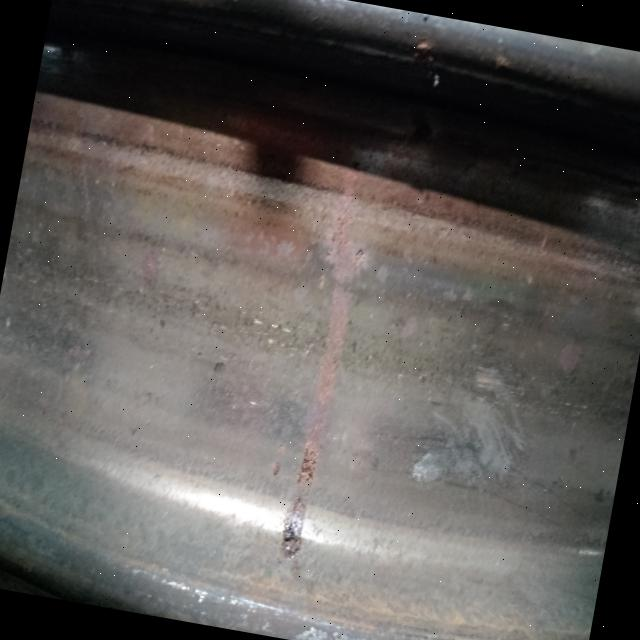flat: (409, 349, 539, 506)
